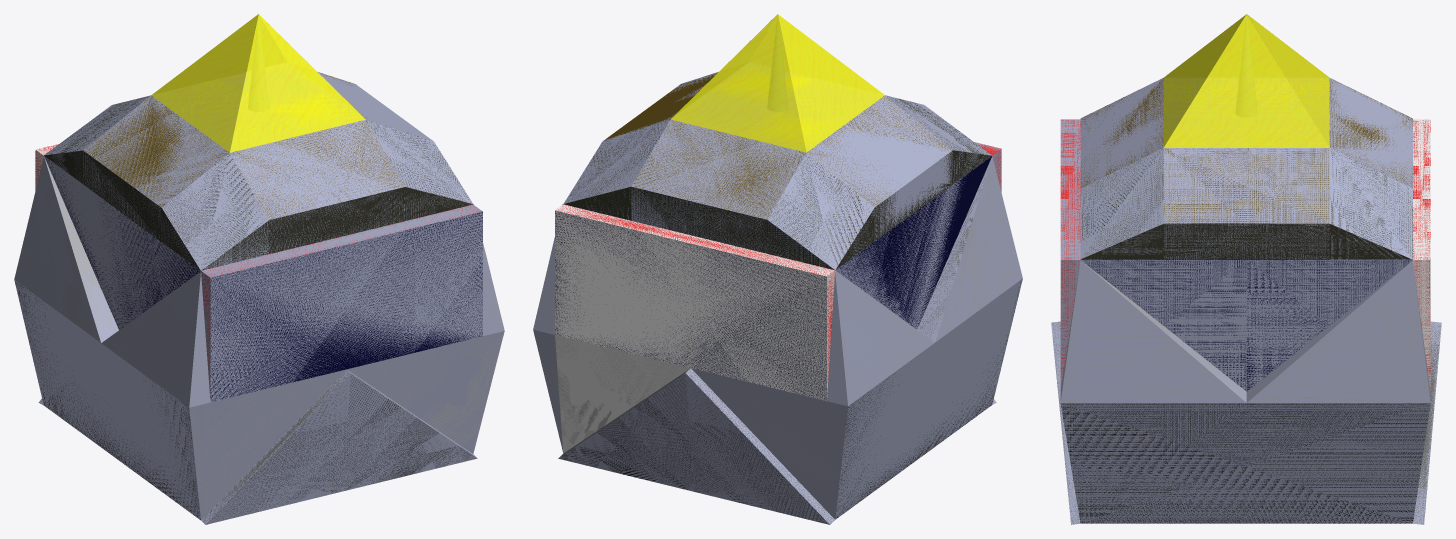
File: temple-of-SH!T.fbx
3 renders of one model, left to right at view 1: azimuth 30°, elevation 25°; view 2: azimuth 150°, elevation 25°; view 3: azimuth 270°, elevation 25°, orthographic. The views are drawn at different scales.
Parts seen in each view (by area): view 1: Model; view 2: Model; view 3: Model.
Part boxes in pixels (x1,y1,x2,y2): Model: (14,14,504,524); Model: (533,14,1022,524); Model: (1051,14,1441,524).
Bounding box in the file's own units: 212 × 268 × 215.
